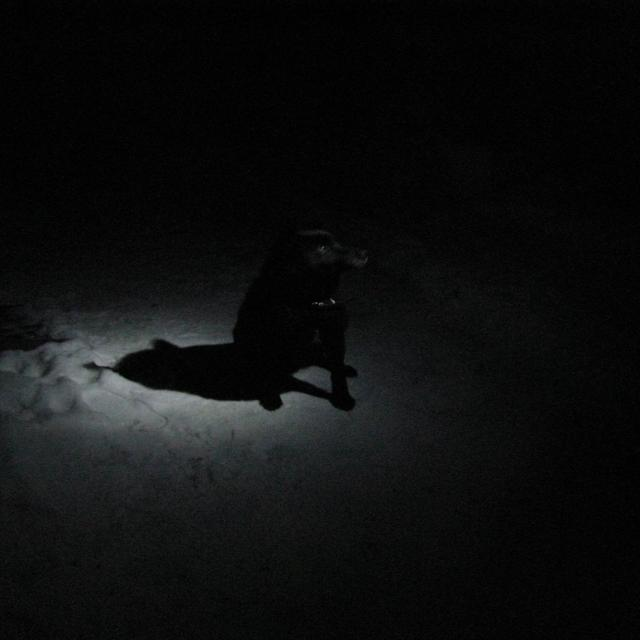dog: (184, 208, 410, 435)
